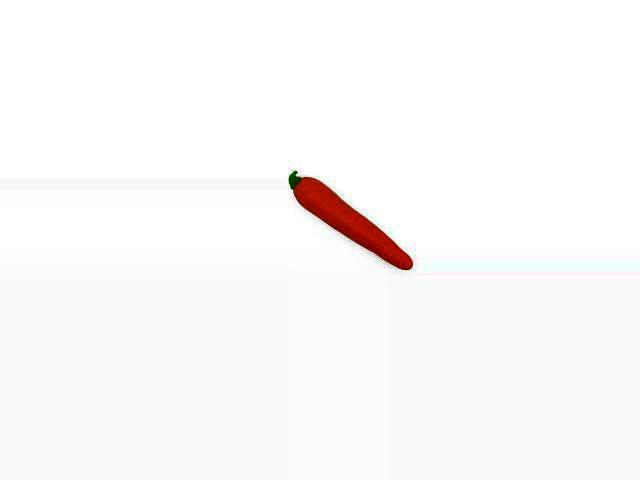carrot: (292, 176, 415, 269)
